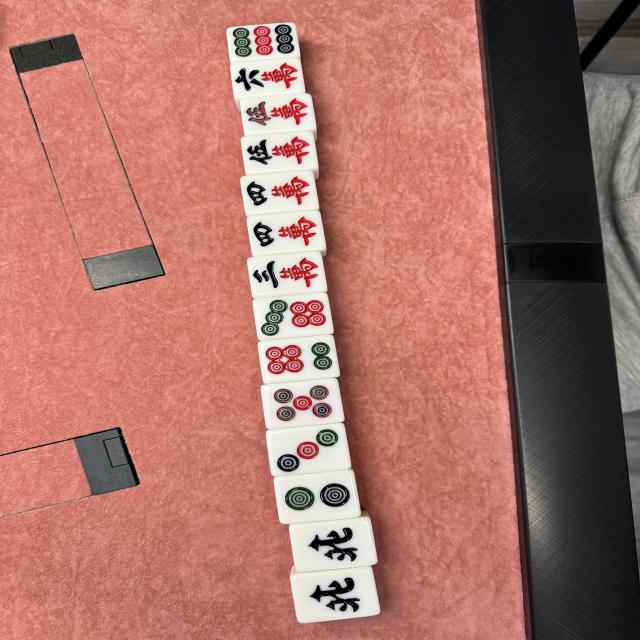sd1: (289, 568, 380, 624), (288, 517, 378, 572), (274, 469, 361, 524), (266, 422, 352, 476), (260, 378, 345, 429), (258, 334, 341, 384), (253, 292, 334, 340), (247, 251, 327, 298), (247, 210, 326, 256), (240, 130, 319, 173), (240, 171, 318, 214), (240, 93, 316, 134), (229, 58, 305, 97), (226, 22, 300, 61)
